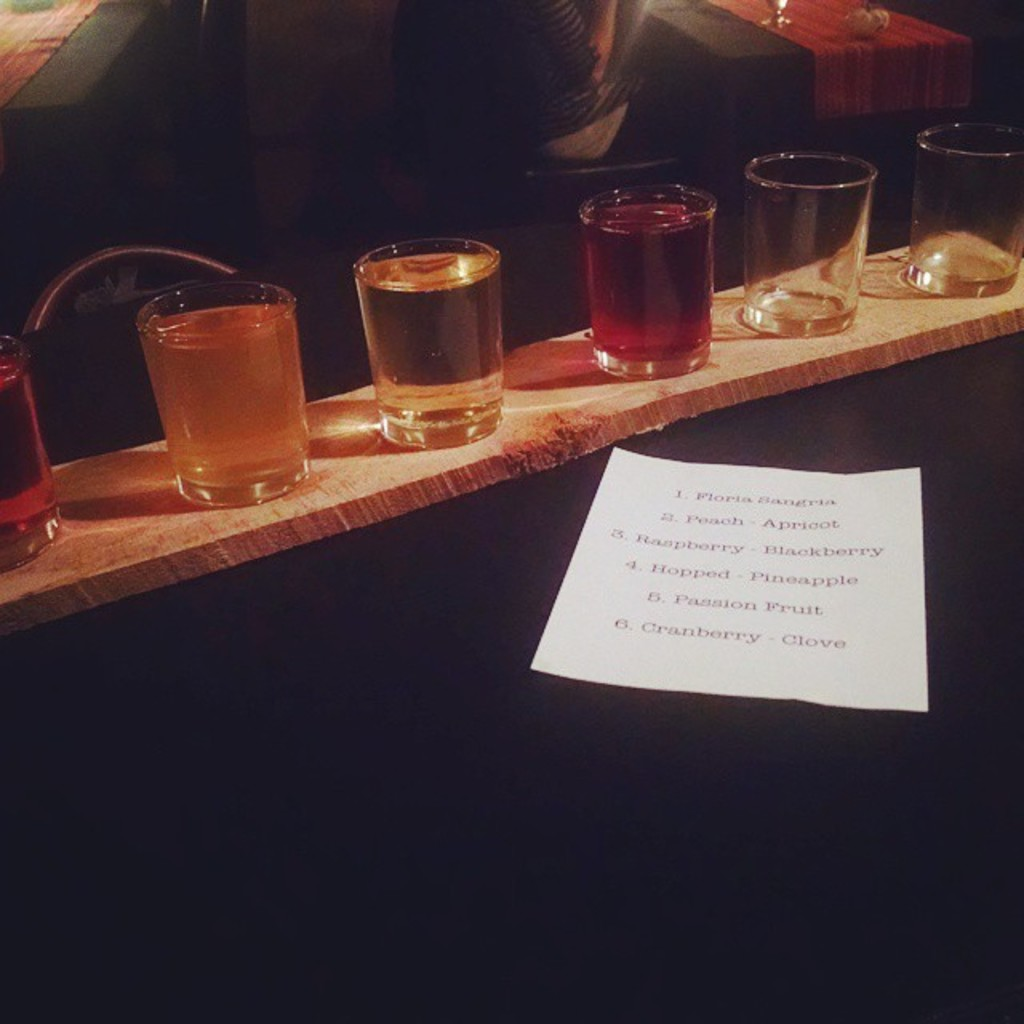Beer: (123, 270, 340, 513), (347, 227, 507, 455), (574, 177, 724, 379), (752, 150, 875, 350), (912, 118, 1022, 294), (0, 327, 60, 569)
